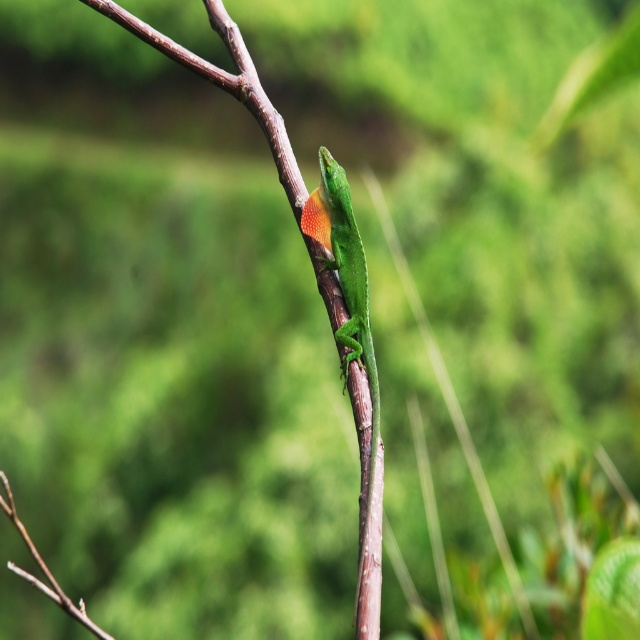Lizard: (290, 131, 398, 586)
